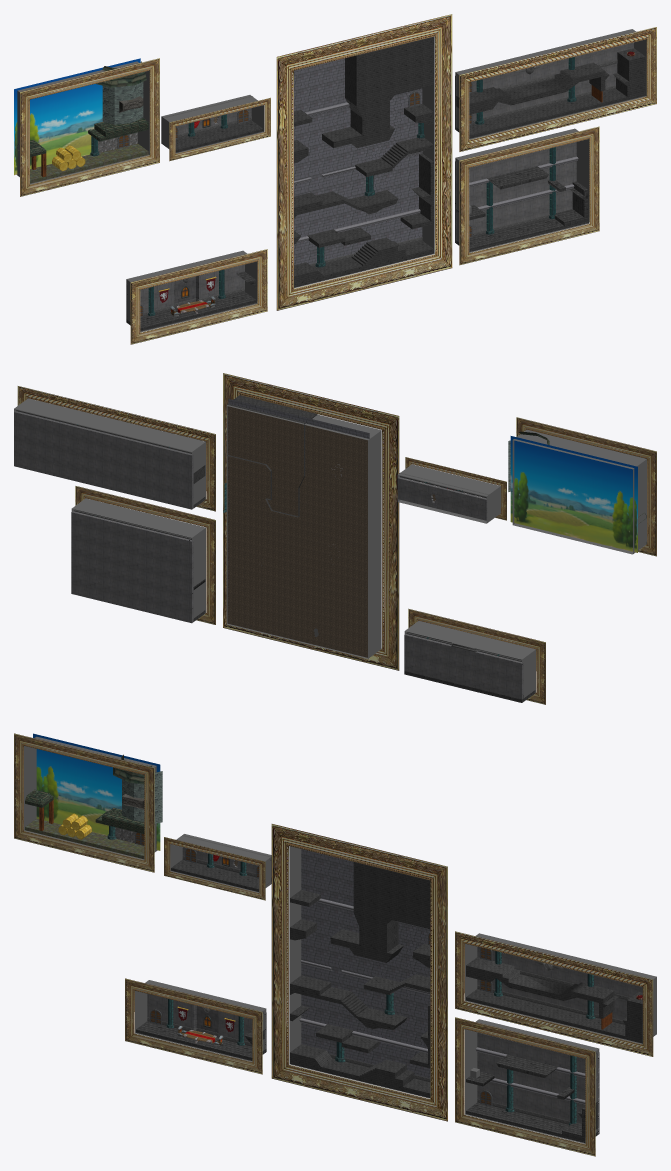
File: Levels.FBX
3 views of the same model, one above another, from view 1: azimuth 30°, elevation 25°; view 2: azimuth 150°, elevation 25°; view 3: azimuth 330°, elevation 25° (orthographic).
Visible parts, largest first — view 1: Third_Room, Plane001, Sixth_Room, Fourth_Room, Fifth_Room, polySurface321, First_Room, polySurface403, polySurface412, polySurface256, Second_Room, polySurface420 (+15 smaller); view 2: Plane003, Sixth_Room, polySurface321, Third_Room, polySurface403, Fourth_Room, polySurface72, polySurface420, polySurface324, Fifth_Room, polySurface256, First_Room (+5 smaller); view 3: Third_Room, Plane001, Sixth_Room, Fourth_Room, Fifth_Room, polySurface321, First_Room, polySurface412, polySurface403, polySurface72, polySurface256, polySurface420 (+11 smaller).
Part boxes in pixels (x1,y1,x2,y2): Third_Room: [276, 14, 452, 310]; Plane001: [294, 58, 422, 264]; Sixth_Room: [455, 126, 599, 265]; Fourth_Room: [126, 249, 267, 344]; Fifth_Room: [459, 27, 656, 151]; polySurface321: [14, 58, 140, 175]; First_Room: [20, 58, 159, 196]; polySurface403: [455, 42, 633, 130]; polySurface412: [456, 62, 609, 114]; polySurface256: [455, 128, 589, 252]; Second_Room: [169, 97, 270, 161]; polySurface420: [455, 29, 646, 139]; Plane003: [227, 406, 367, 657]; Sixth_Room: [71, 486, 215, 624]; polySurface321: [510, 436, 637, 552]; Third_Room: [223, 373, 399, 670]; polySurface403: [14, 411, 193, 509]; Fourth_Room: [404, 608, 545, 704]; polySurface72: [226, 405, 381, 658]; polySurface420: [14, 398, 205, 504]; polySurface324: [512, 430, 646, 554]; Fifth_Room: [17, 386, 215, 511]; polySurface256: [71, 498, 205, 618]; First_Room: [516, 417, 656, 556]; Third_Room: [271, 824, 447, 1121]; Plane001: [301, 849, 430, 1078]; Sixth_Room: [455, 1017, 599, 1156]; Fourth_Room: [125, 978, 266, 1074]; Fifth_Room: [455, 931, 653, 1056]; polySurface321: [33, 733, 160, 850]; First_Room: [14, 733, 154, 872]; polySurface412: [466, 957, 618, 1018]; polySurface403: [477, 947, 642, 1020]; polySurface72: [289, 846, 429, 1098]; polySurface256: [465, 1019, 599, 1143]; polySurface420: [465, 933, 656, 1044].
Bounding box in the file's own units: 223 × 94.32 × 8.63.
